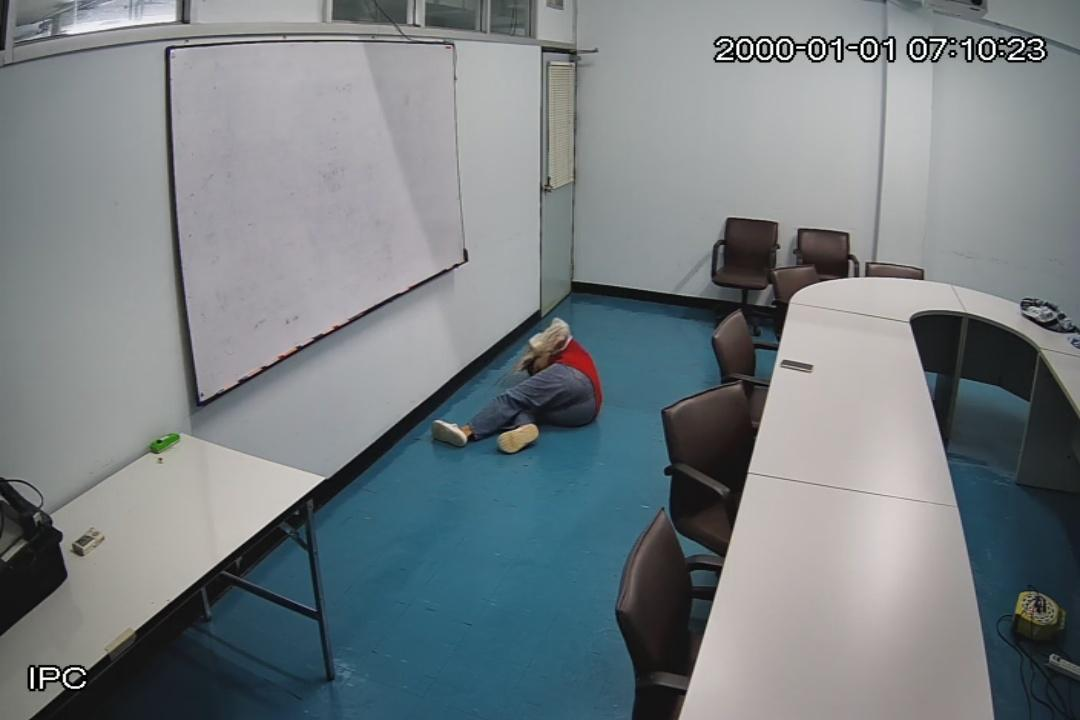fall: (426, 315, 606, 454)
